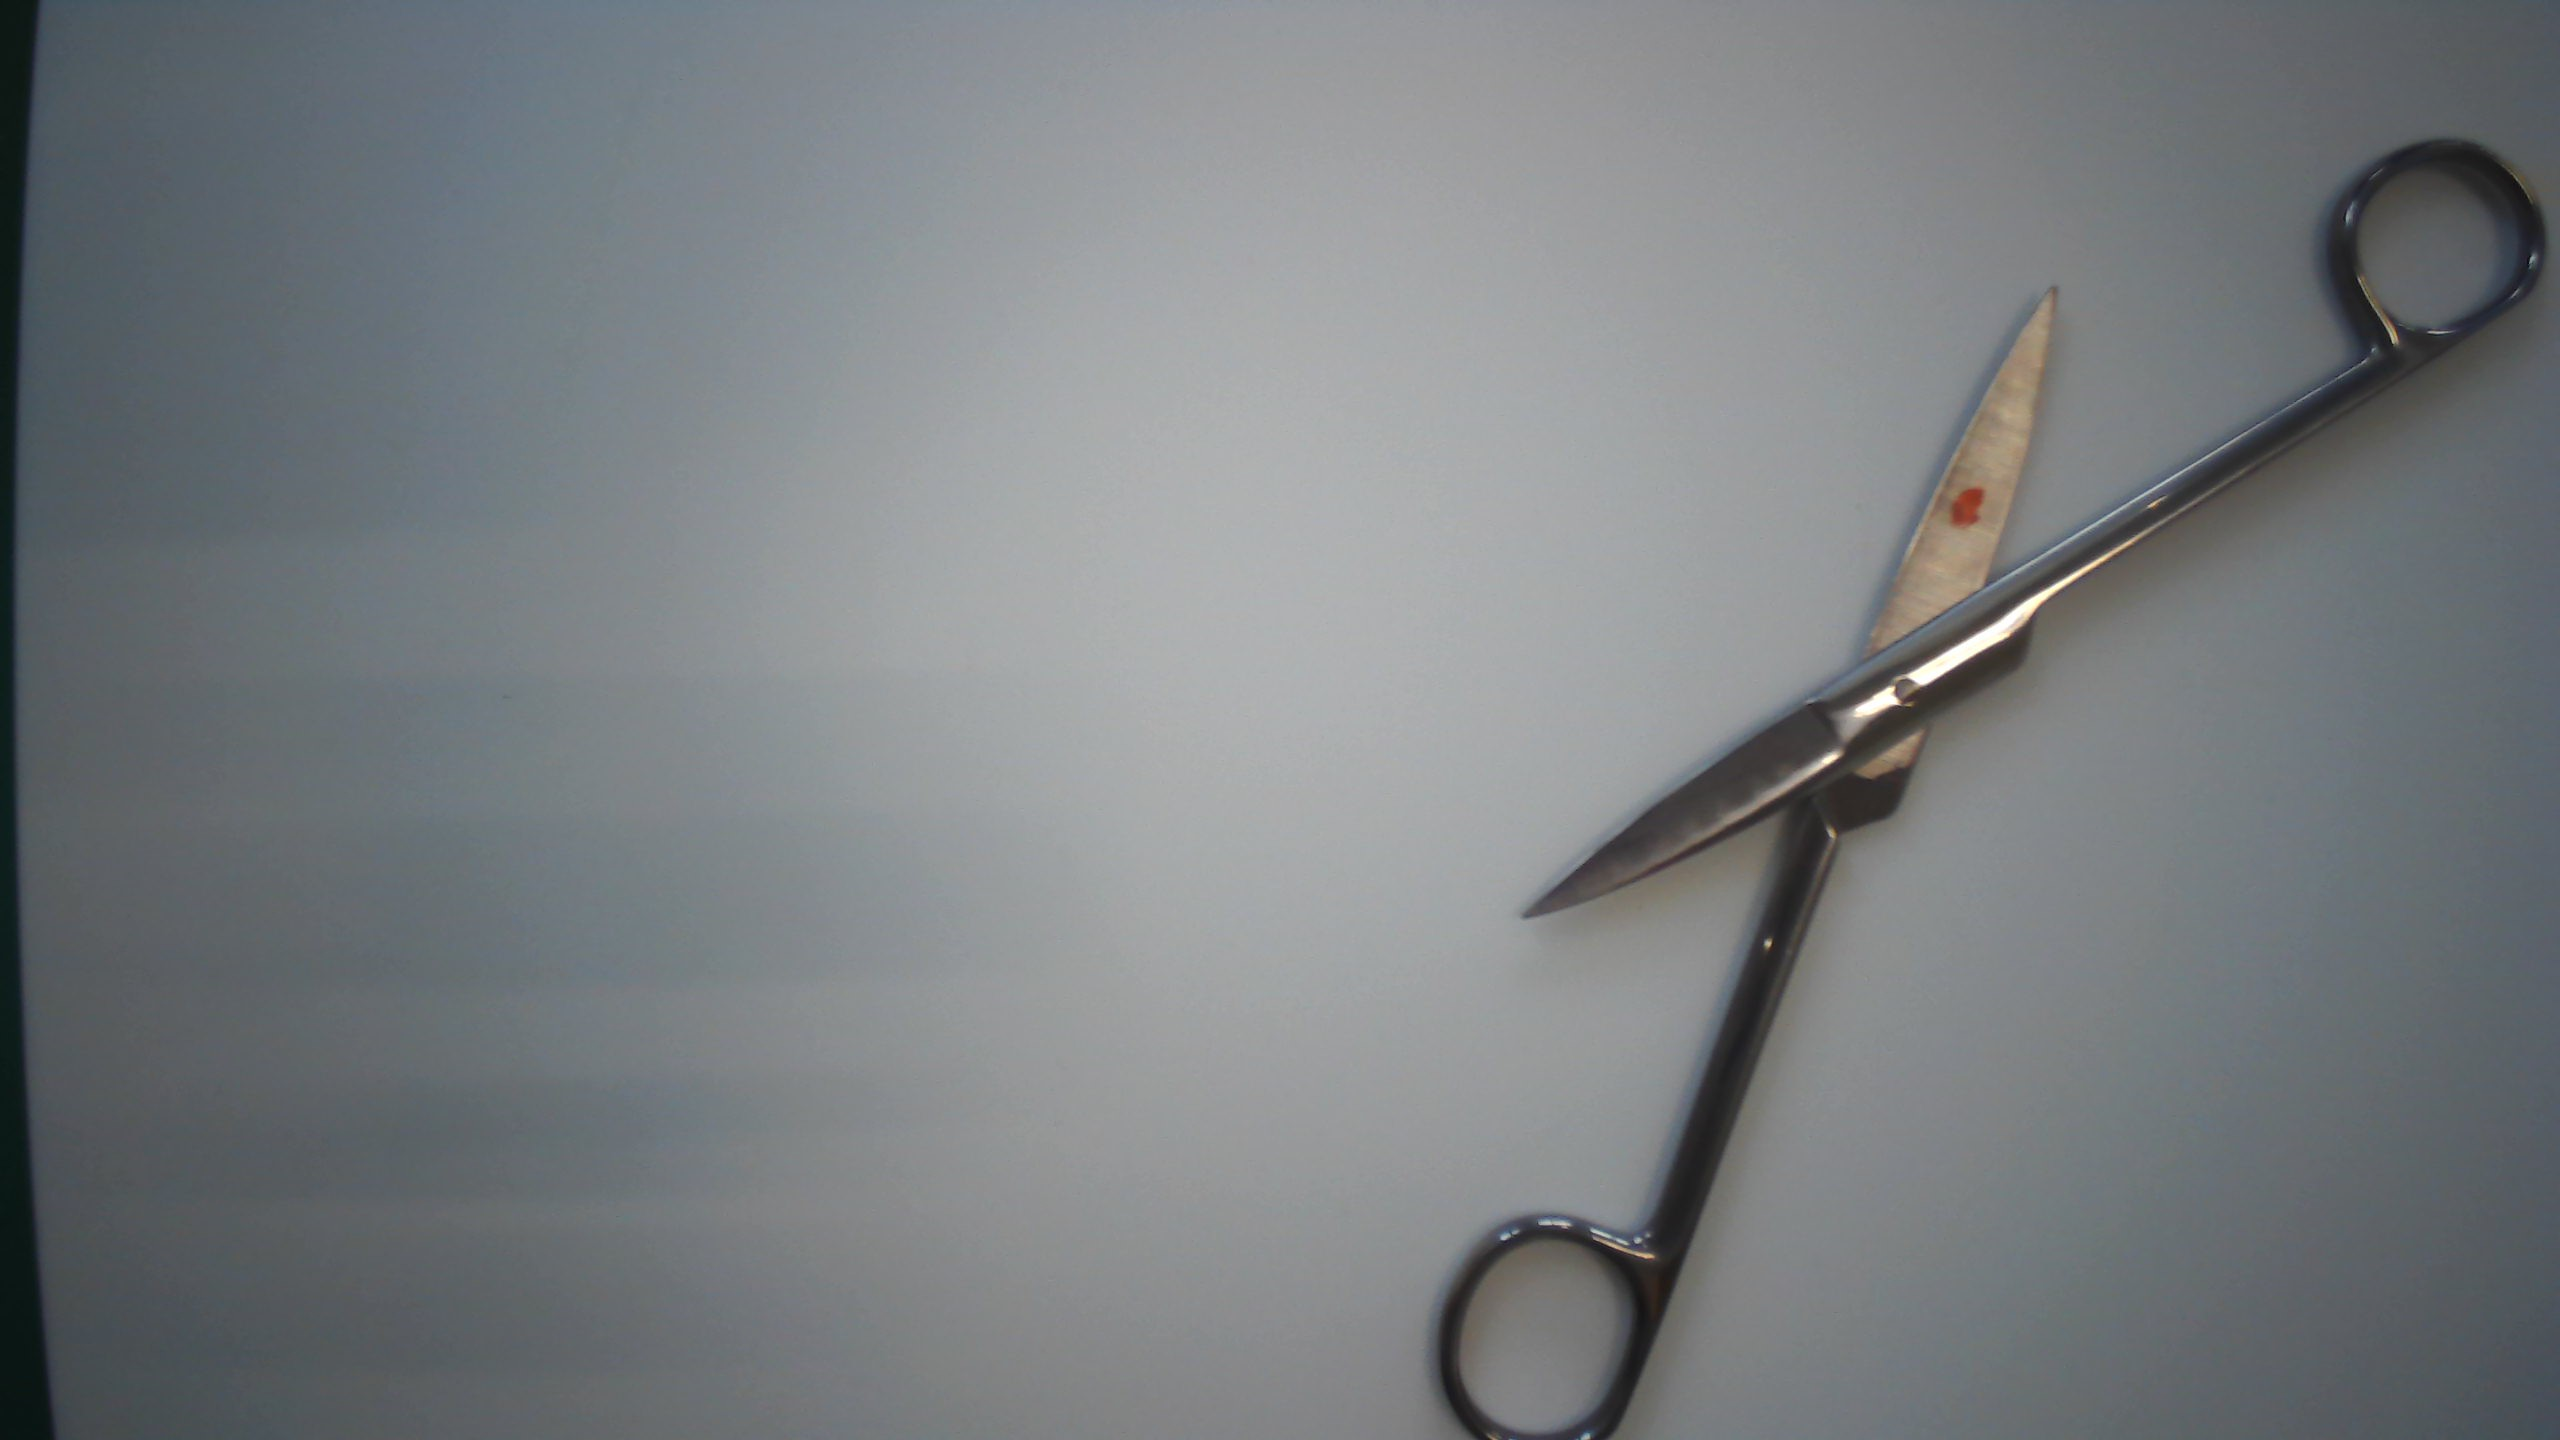Stain: (1934, 475, 2004, 538)
